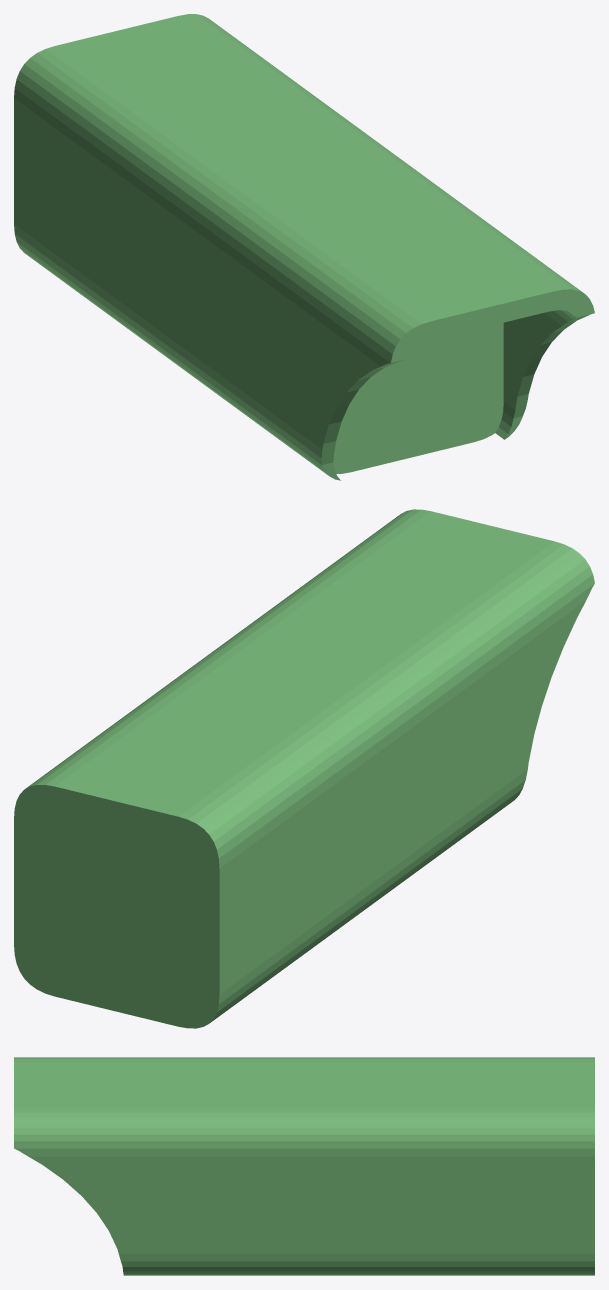
Rendered from Planned Camera - Green.glb.
The picture shows the model from 3 angles, top to bottom: view 1: azimuth 30°, elevation 25°; view 2: azimuth 150°, elevation 25°; view 3: azimuth 270°, elevation 25°; orthographic projection. The views are drawn at different scales.
Parts seen in each view (by area): view 1: Mesh_Mesh_head_geo.001_lambert2SG.001; view 2: Mesh_Mesh_head_geo.001_lambert2SG.001; view 3: Mesh_Mesh_head_geo.001_lambert2SG.001.
Boxes of the visible parts, x1,y1,x2,y2 form: Mesh_Mesh_head_geo.001_lambert2SG.001: [14, 14, 594, 480]; Mesh_Mesh_head_geo.001_lambert2SG.001: [14, 509, 594, 1028]; Mesh_Mesh_head_geo.001_lambert2SG.001: [14, 1057, 594, 1275].
Size of the model in its own units: 33.87 by 33.08 by 107.
